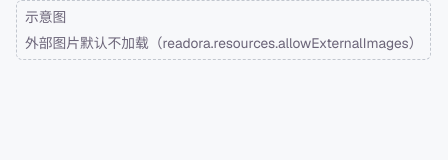
Test: 外链与降级链接 › 外部图片被策略拦截：点击给出拦截原因而不是打开空 Lightbox
Click the element showing "示意图 外部图片默认不加载（readora.resources.allowExternalImages）" at (224, 30), box [16,0,431,60]
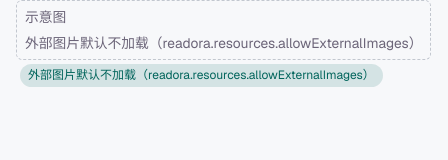
Check: the message with class "readora-inline-note" reads "外部图片默认不加载（readora.resources.allowExternalImages）", box [28,67,375,83]
